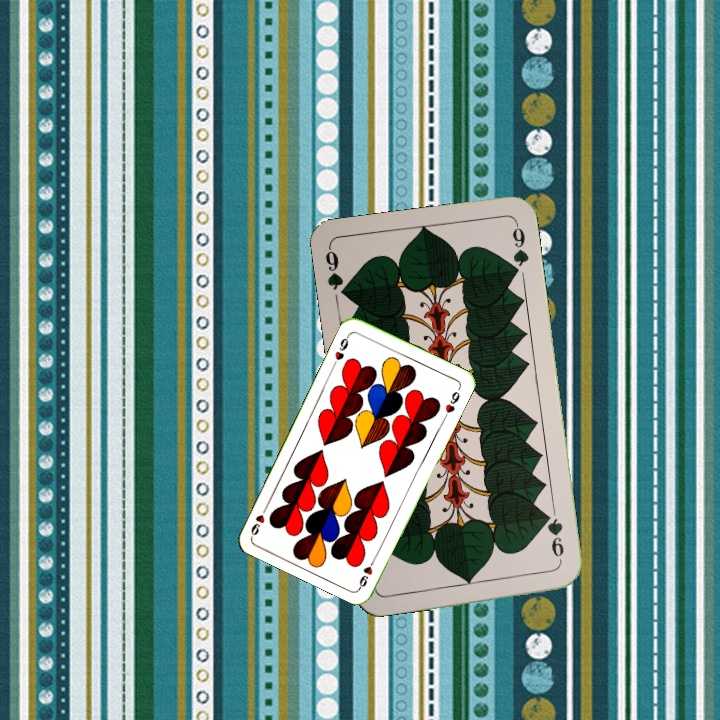G9: (321, 244, 352, 302), (540, 508, 567, 566)
H9: (329, 330, 353, 368), (355, 552, 379, 590)
